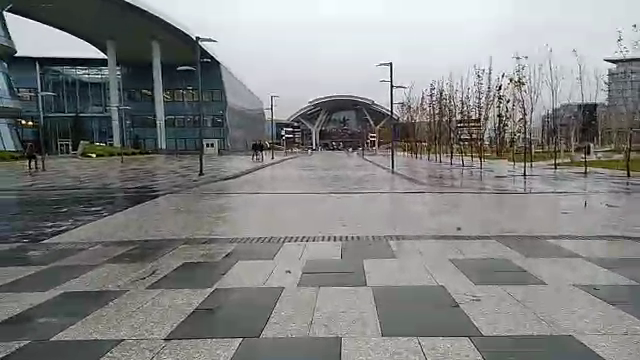mega: (286, 91, 403, 162)
